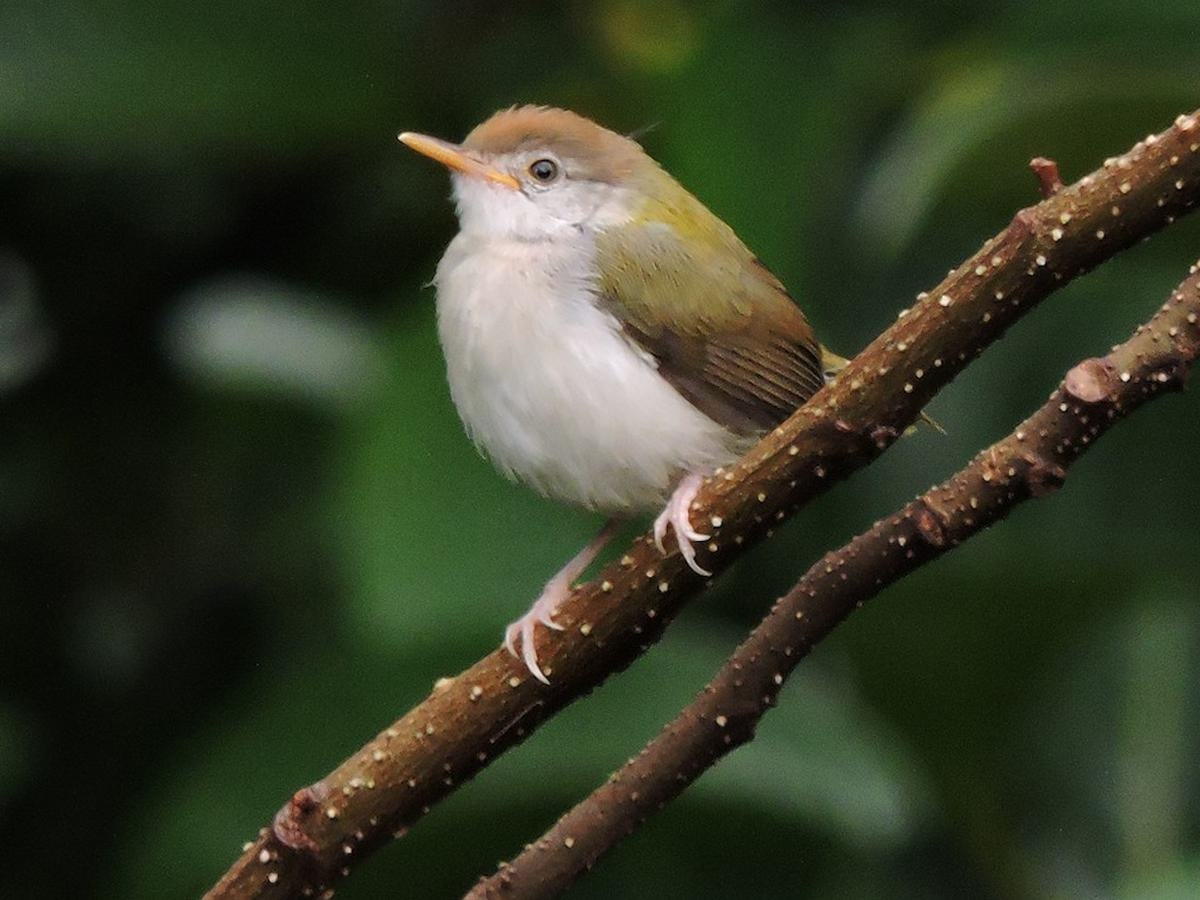tailorbird: (405, 65, 893, 560)
